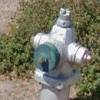Hydrant: (23, 4, 94, 100)
